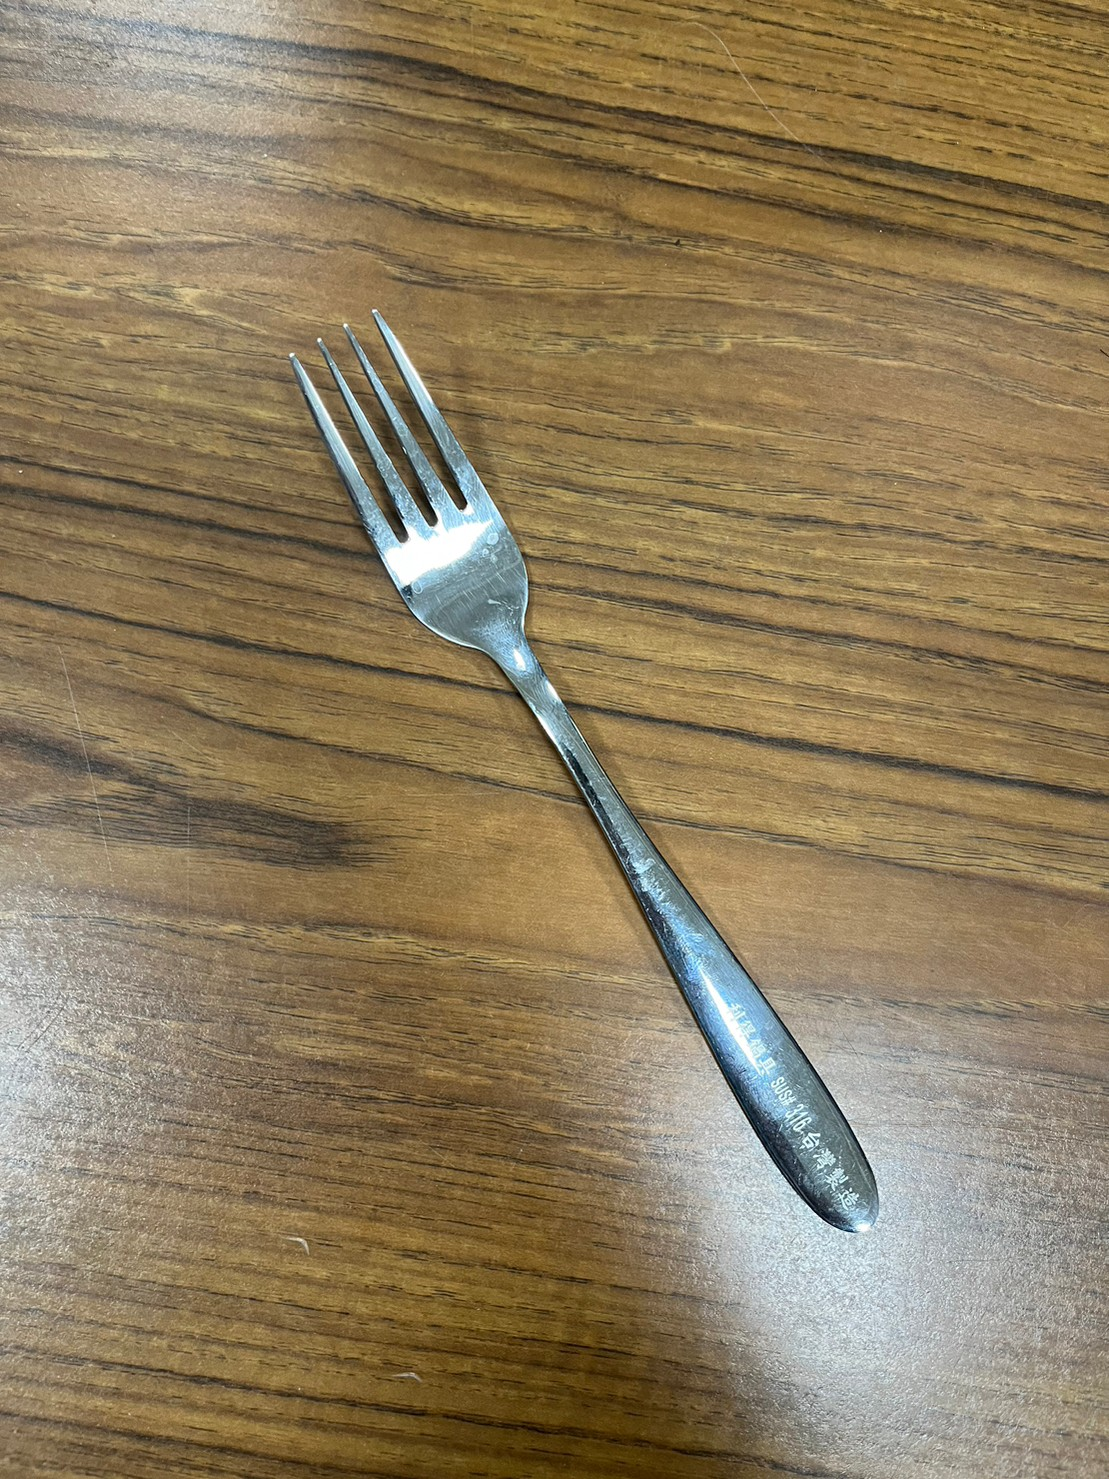fork: (280, 298, 900, 1253)
